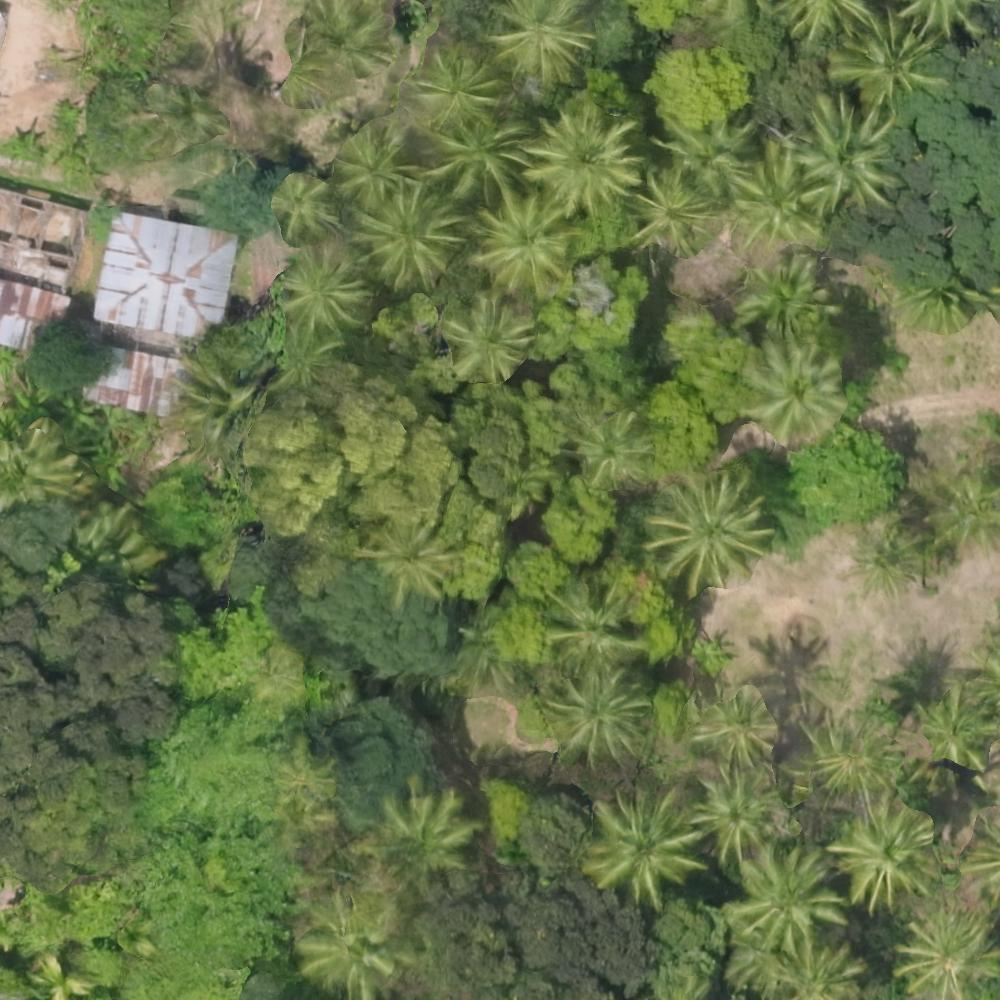Palm: (650, 474, 763, 588), (591, 789, 703, 902), (302, 889, 414, 997), (791, 101, 899, 208), (838, 805, 943, 910), (826, 8, 937, 105), (732, 847, 842, 943), (359, 183, 458, 289), (530, 107, 632, 206), (746, 342, 845, 440), (370, 779, 471, 872), (547, 667, 646, 761), (475, 195, 568, 290), (731, 147, 826, 240), (441, 286, 533, 380), (898, 910, 992, 1000), (690, 769, 780, 862), (492, 1, 592, 83), (361, 512, 452, 602), (427, 115, 527, 195), (544, 573, 637, 659), (632, 168, 716, 254), (912, 683, 993, 765), (283, 247, 365, 326), (411, 48, 495, 123), (569, 409, 650, 486), (693, 693, 772, 771), (335, 128, 408, 204), (274, 174, 333, 234)
